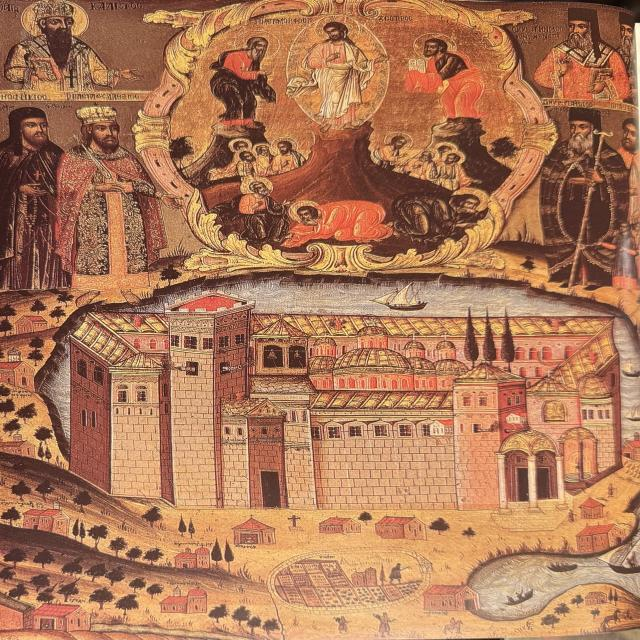aura: (10, 1, 91, 38), (232, 30, 283, 62), (312, 17, 366, 47), (413, 34, 461, 60), (447, 189, 492, 214), (290, 199, 326, 225), (242, 179, 276, 197), (272, 137, 300, 157), (384, 133, 415, 151), (228, 140, 254, 154), (445, 152, 467, 165), (237, 150, 257, 164), (418, 150, 440, 162), (436, 144, 460, 154)
book: (25, 55, 65, 85), (589, 66, 617, 96)
christ_hand: (317, 52, 343, 68)
christ_pantocrator: (287, 17, 397, 134)
crown: (74, 103, 128, 127), (32, 2, 78, 24)
scepter: (569, 129, 617, 287), (71, 138, 131, 204)
scroll: (405, 60, 433, 75)
